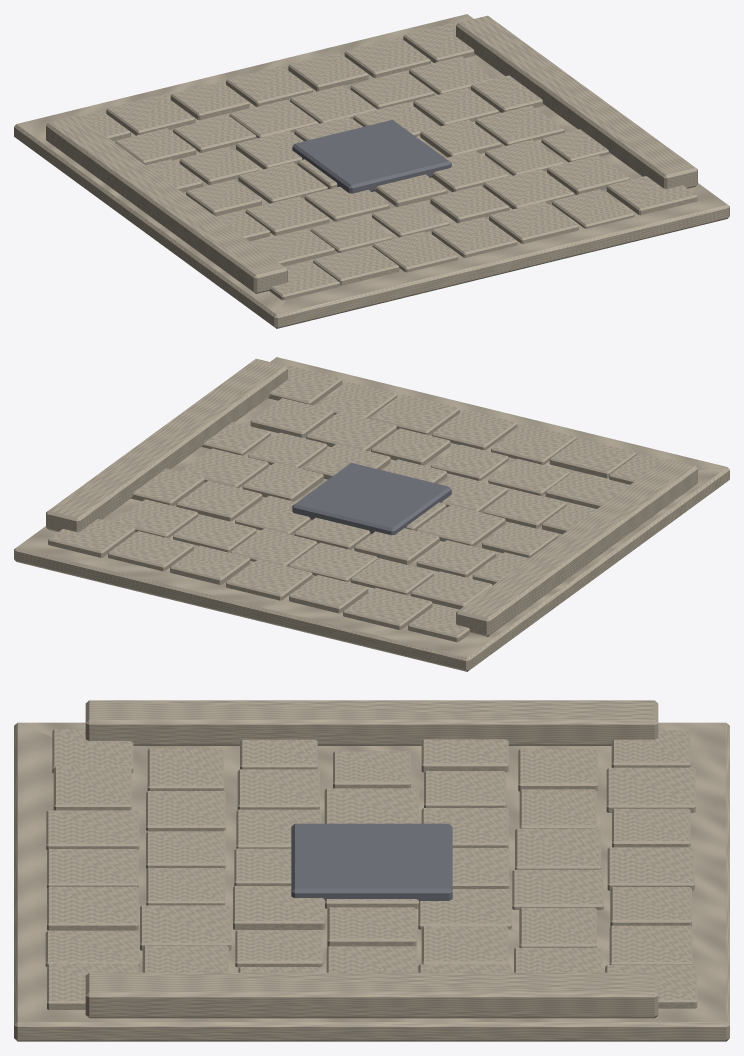
File: fantasy-mmo-city-and-townsfolk-street-junction-tile-5802f611__32717.glb
3 views of the same model, one above another, from view 1: azimuth 30°, elevation 25°; view 2: azimuth 150°, elevation 25°; view 3: azimuth 270°, elevation 25° (orthographic). The views are drawn at different scales.
Parts seen in each view (by area): view 1: street-junction-tile; view 2: street-junction-tile; view 3: street-junction-tile.
Boxes of the visible parts, left/top/right/bottom form: street-junction-tile: left=14, top=14, right=729, bottom=328; street-junction-tile: left=14, top=357, right=729, bottom=671; street-junction-tile: left=14, top=700, right=729, bottom=1041.
Bounding box in the file's own units: 4 × 0.2798 × 4.
2 materials, 1 textured.
